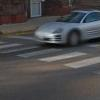Crosswalk: (4, 34, 95, 85)
